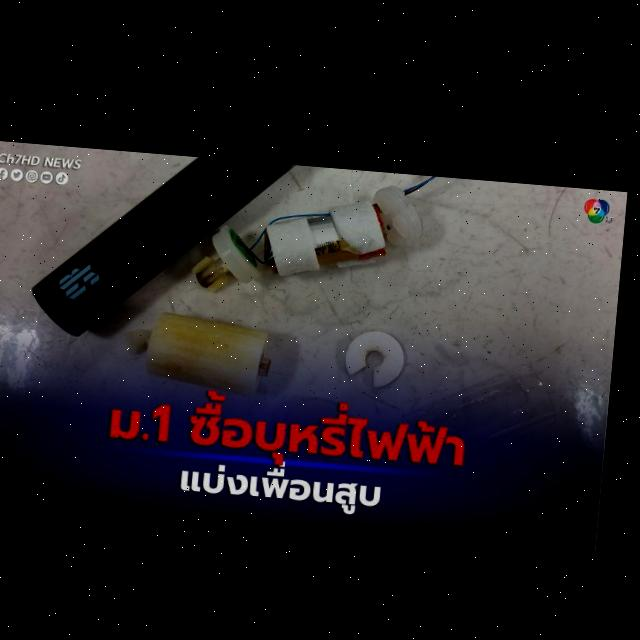vape: (35, 144, 296, 348)
